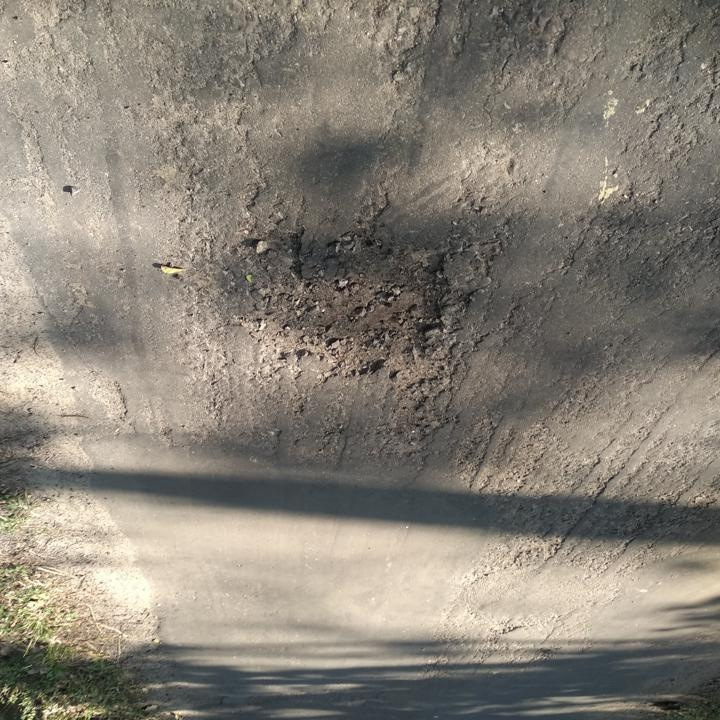pothole: (244, 228, 457, 383)
